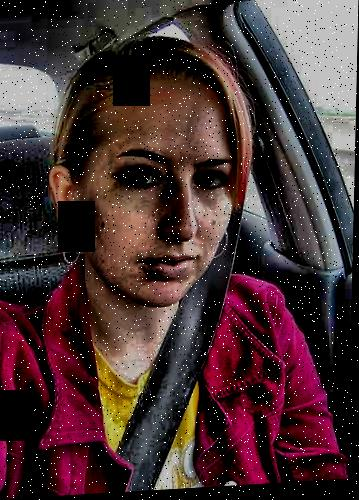seatbelt: (93, 145, 276, 456)
